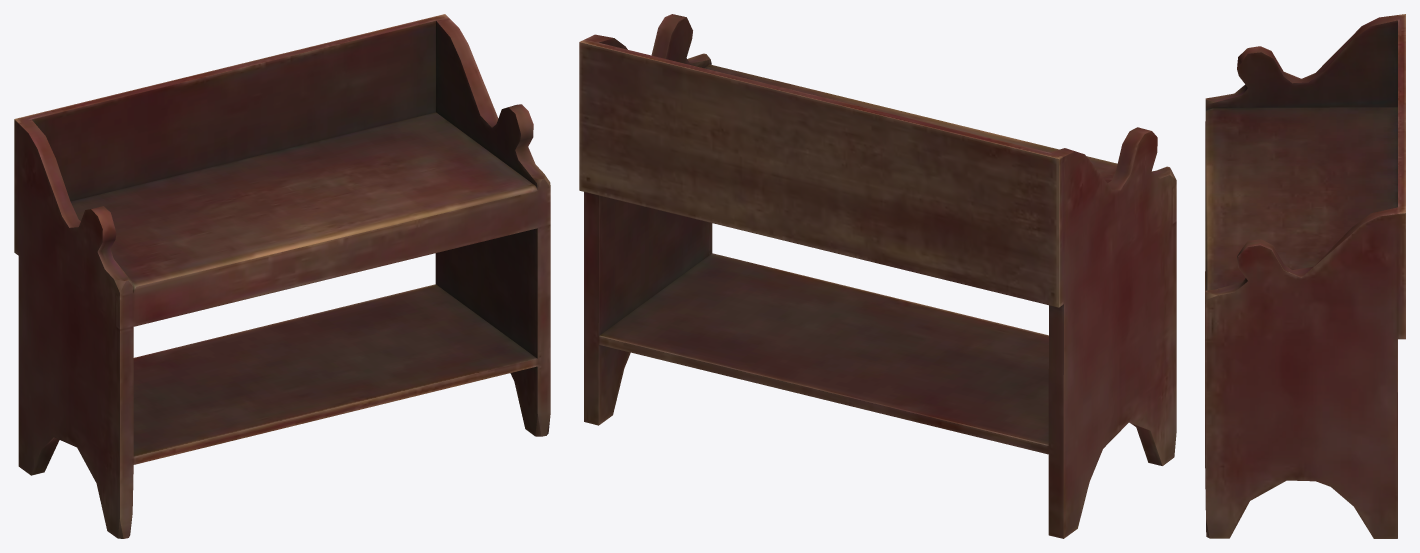
File: painted_wooden_bench.glb
3 renders of one model, left to right at view 1: azimuth 30°, elevation 25°; view 2: azimuth 150°, elevation 25°; view 3: azimuth 270°, elevation 25°, orthographic. The views are drawn at different scales.
Parts seen in each view (by area): view 1: painted_wooden_bench; view 2: painted_wooden_bench; view 3: painted_wooden_bench.
Part boxes in pixels (x1,y1,x2,y2): painted_wooden_bench: [14, 14, 550, 538]; painted_wooden_bench: [579, 14, 1176, 538]; painted_wooden_bench: [1205, 14, 1405, 538].
Bounding box in the file's own units: 1.16 × 0.8893 × 0.4965.
1 material, 1 textured.
